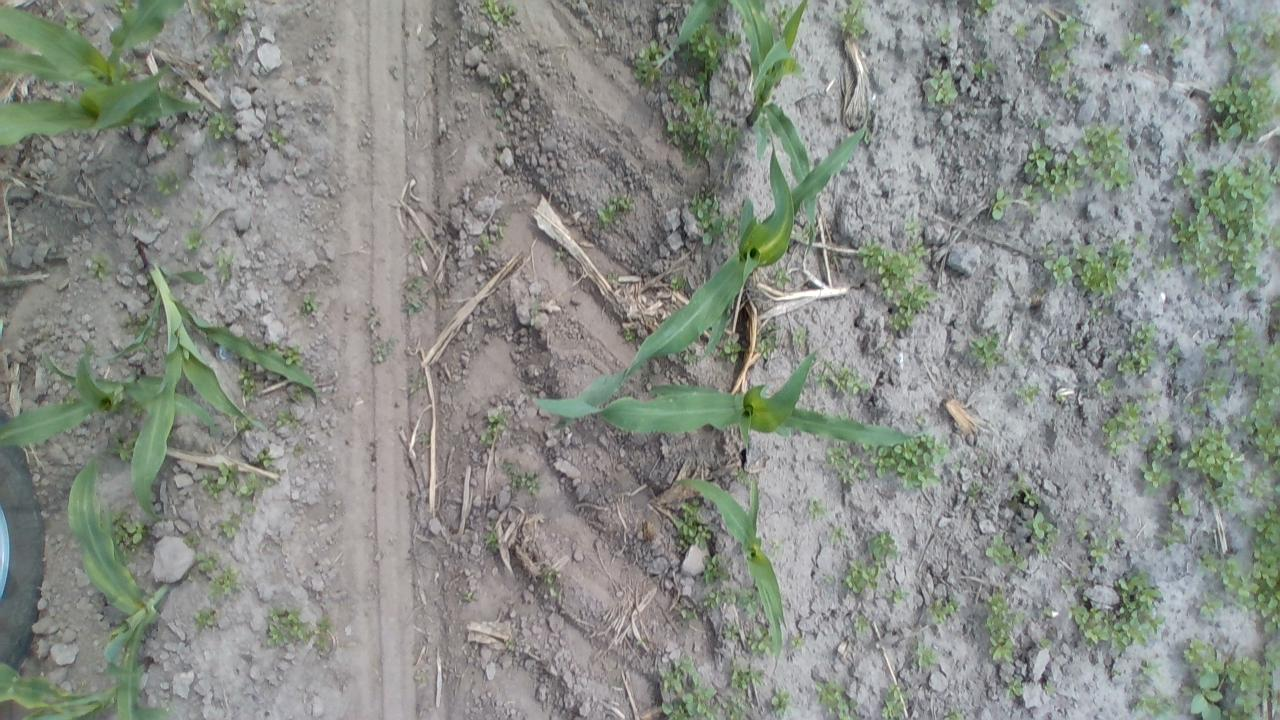Maize: (547, 120, 869, 430), (98, 241, 320, 514), (534, 349, 928, 446), (1, 0, 206, 146), (68, 459, 170, 720), (676, 475, 786, 674), (1, 354, 215, 446), (0, 656, 171, 720), (725, 0, 808, 124), (110, 1, 186, 68), (656, 0, 721, 69)
Weeds: (1169, 154, 1280, 285), (1199, 499, 1280, 634), (1229, 318, 1280, 471), (1070, 574, 1168, 650), (1184, 636, 1279, 692), (1206, 74, 1280, 143), (859, 238, 928, 298), (1182, 423, 1248, 484), (873, 437, 949, 489), (1076, 124, 1130, 188), (985, 592, 1030, 660), (662, 107, 712, 168), (659, 673, 718, 720), (818, 442, 871, 490), (1074, 244, 1116, 298), (1214, 478, 1254, 530), (1033, 158, 1083, 198), (890, 288, 934, 332), (261, 606, 310, 644), (991, 185, 1040, 222), (816, 358, 863, 396), (675, 500, 711, 546), (1189, 673, 1224, 720), (690, 25, 726, 70), (1226, 21, 1261, 65), (1026, 510, 1060, 554), (633, 40, 665, 85), (1112, 338, 1152, 374), (202, 0, 246, 32), (209, 569, 246, 603), (503, 461, 543, 492), (837, 0, 871, 35), (970, 332, 1000, 369), (1022, 140, 1055, 173), (725, 588, 762, 616), (986, 537, 1024, 564), (868, 530, 896, 566), (846, 563, 879, 592), (1012, 475, 1040, 507), (1246, 472, 1278, 500), (931, 69, 958, 102), (598, 197, 630, 224), (1150, 422, 1174, 458), (668, 84, 701, 110), (478, 1, 512, 26), (115, 520, 145, 548), (714, 120, 739, 152), (1134, 698, 1170, 720), (218, 252, 240, 288), (1043, 254, 1071, 282), (1154, 526, 1188, 549), (208, 114, 238, 140), (933, 598, 961, 625), (1058, 17, 1084, 46), (746, 625, 772, 654), (154, 170, 183, 196), (1123, 30, 1148, 60), (112, 430, 136, 461), (371, 335, 394, 367), (1144, 458, 1170, 486), (909, 642, 937, 668), (721, 694, 749, 720), (702, 554, 727, 582), (1196, 592, 1224, 616), (1205, 379, 1229, 406), (317, 609, 334, 647), (1260, 14, 1280, 46), (1233, 693, 1262, 715), (1112, 240, 1133, 270), (1172, 162, 1198, 186), (816, 680, 840, 706), (1119, 396, 1141, 424), (153, 124, 178, 148), (1167, 493, 1194, 515), (216, 515, 238, 542), (211, 47, 236, 70), (699, 216, 721, 242), (1015, 385, 1042, 406), (1088, 539, 1112, 562), (722, 332, 743, 358), (238, 473, 264, 494), (881, 698, 908, 718), (238, 367, 256, 397), (974, 0, 1002, 19), (214, 461, 236, 485), (757, 331, 773, 362), (283, 344, 305, 366), (87, 260, 111, 280), (126, 310, 146, 334), (730, 668, 751, 690), (195, 609, 217, 630), (772, 688, 792, 711), (690, 192, 712, 212), (1204, 344, 1226, 364), (200, 474, 220, 496), (970, 483, 994, 501), (404, 298, 422, 322), (1166, 338, 1180, 368), (656, 672, 678, 691), (1072, 516, 1088, 542), (972, 60, 994, 78), (1135, 233, 1153, 255), (702, 589, 721, 609), (185, 231, 204, 251), (805, 497, 826, 515), (1103, 526, 1128, 541), (1188, 402, 1210, 419), (1100, 417, 1120, 435), (1168, 34, 1188, 52), (302, 293, 320, 313), (489, 414, 508, 432), (1007, 675, 1023, 696), (182, 532, 203, 548), (258, 447, 274, 468), (61, 12, 80, 29), (836, 700, 852, 720), (406, 274, 426, 290), (1144, 8, 1162, 25), (542, 567, 562, 582), (1014, 26, 1032, 42), (1086, 302, 1104, 318), (198, 558, 216, 574), (1172, 0, 1194, 13), (942, 709, 968, 720), (671, 657, 690, 672), (1158, 251, 1172, 271), (885, 590, 906, 603), (481, 426, 494, 447), (276, 413, 297, 426), (210, 148, 225, 166), (288, 385, 303, 403), (1186, 131, 1205, 145), (1122, 428, 1142, 441), (1052, 64, 1068, 80), (1044, 604, 1060, 620), (1098, 380, 1112, 398), (726, 34, 744, 48), (1063, 575, 1084, 587), (680, 609, 701, 621), (368, 310, 382, 328), (1103, 437, 1122, 450), (775, 270, 792, 284), (270, 127, 284, 144), (1034, 115, 1052, 128), (1136, 323, 1154, 336), (788, 635, 806, 648), (113, 0, 132, 12), (409, 236, 424, 251), (940, 30, 954, 46), (904, 220, 918, 236), (146, 206, 162, 220), (794, 330, 807, 347), (1044, 678, 1056, 696), (242, 498, 256, 512), (832, 527, 847, 540), (130, 402, 143, 417), (486, 530, 496, 549), (722, 622, 736, 635), (1038, 242, 1056, 252), (1140, 662, 1162, 670), (887, 684, 901, 696), (1068, 82, 1078, 98), (916, 412, 926, 428), (853, 617, 867, 628), (1037, 638, 1052, 648), (671, 274, 680, 290), (754, 669, 766, 681), (1224, 710, 1238, 720), (481, 235, 492, 246), (770, 540, 782, 550), (500, 72, 510, 84), (949, 463, 962, 472), (624, 331, 636, 340), (1147, 393, 1161, 400), (292, 446, 304, 454), (504, 642, 514, 651), (192, 208, 202, 217), (496, 220, 507, 228), (978, 456, 988, 464), (555, 253, 561, 264), (242, 420, 250, 428), (464, 594, 472, 600), (418, 380, 424, 388)
